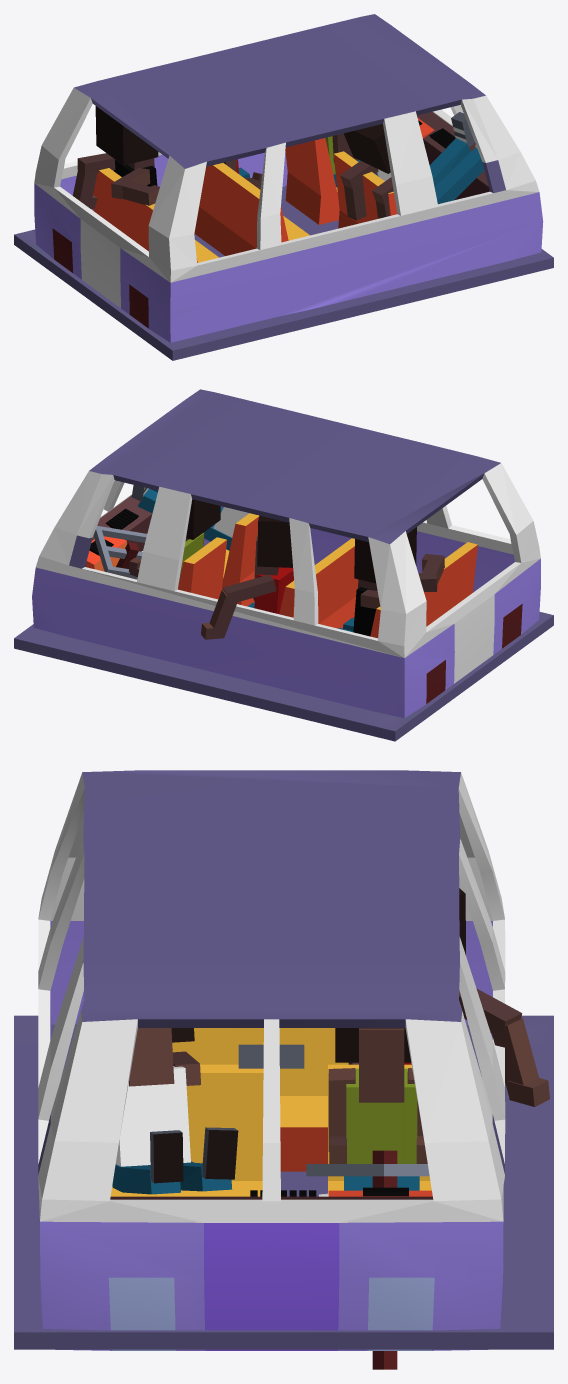
The model's file is car3inside.FBX.
The picture shows the model from 3 angles, top to bottom: view 1: azimuth 30°, elevation 25°; view 2: azimuth 150°, elevation 25°; view 3: azimuth 270°, elevation 25°; orthographic projection. The views are drawn at different scales.
Parts seen in each view (by area): view 1: car3inside; view 2: car3inside; view 3: car3inside.
Part boxes in pixels (left/top/right/bottom): car3inside: left=14, top=14, right=553, bottom=360; car3inside: left=14, top=389, right=553, bottom=741; car3inside: left=14, top=770, right=553, bottom=1369.
Bounding box in the file's own units: 349 × 251 × 172.
